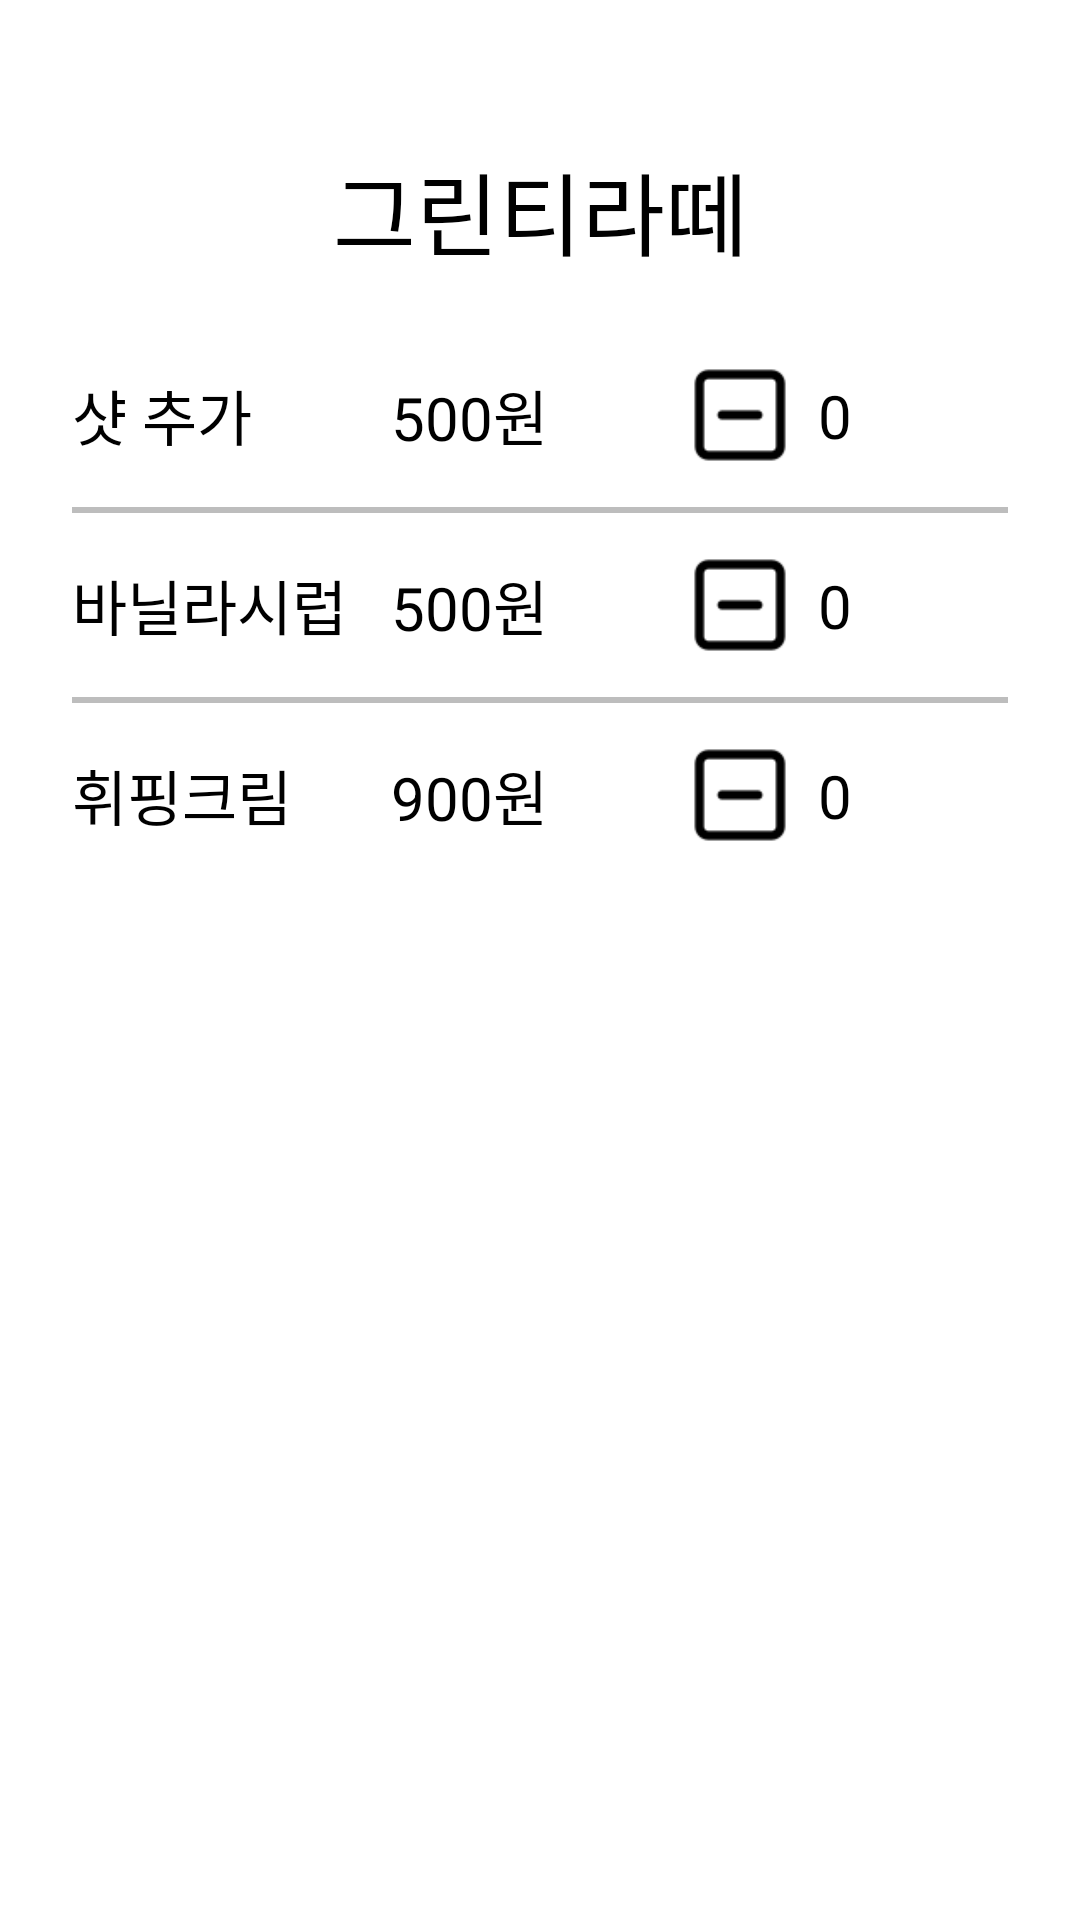

Where to tap for icons on this 1080px x 1920px app screen, as (x=x, y=y):
square minus: (x=740, y=415), (x=740, y=605), (x=740, y=795)
